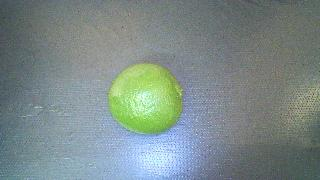EXPORTACION: (108, 63, 183, 134)
